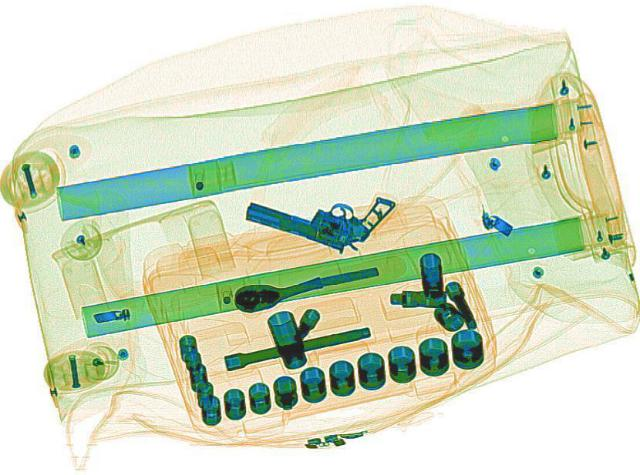Gun: (234, 166, 396, 259)
